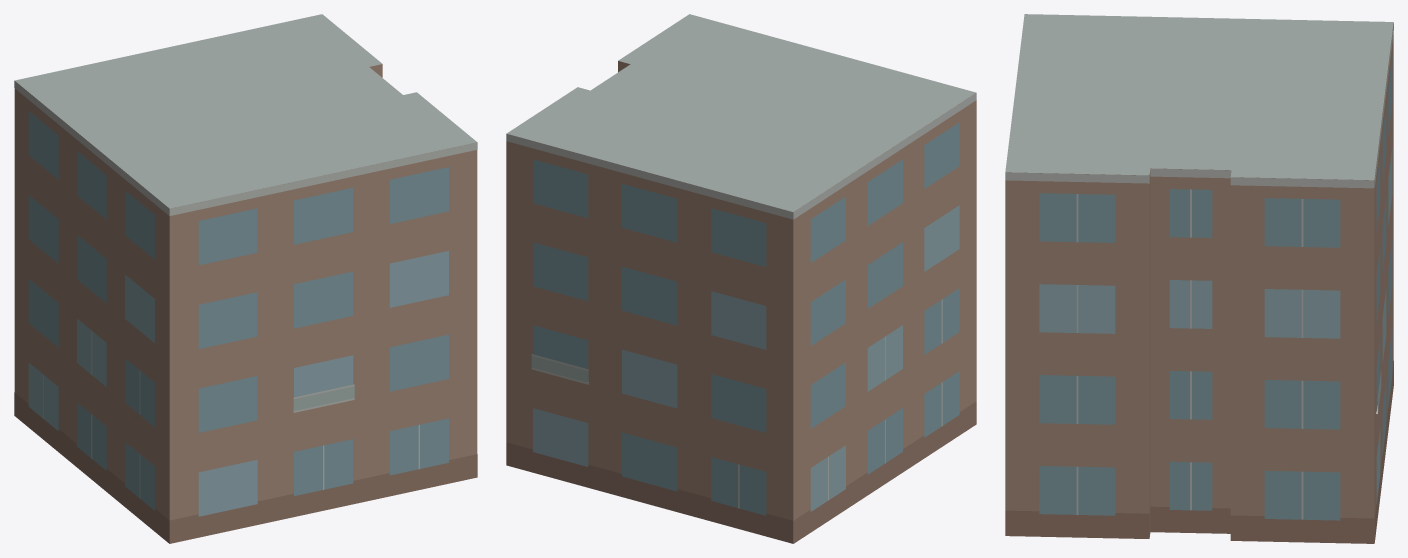
The model's file is survey-upis-32655674.glb.
The picture shows the model from 3 angles, left to right: view 1: azimuth 30°, elevation 25°; view 2: azimuth 150°, elevation 25°; view 3: azimuth 270°, elevation 25°; orthographic projection. The views are drawn at different scales.
Visible parts, largest first — view 1: survey-upis-32655674.tmp; view 2: survey-upis-32655674.tmp; view 3: survey-upis-32655674.tmp.
Boxes of the visible parts, box(x1,y1,x2,y2) form: survey-upis-32655674.tmp: box(14, 14, 477, 543); survey-upis-32655674.tmp: box(506, 14, 976, 543); survey-upis-32655674.tmp: box(1005, 14, 1393, 543).
Bounding box in the file's own units: 10.7 × 10.9 × 10.56.
